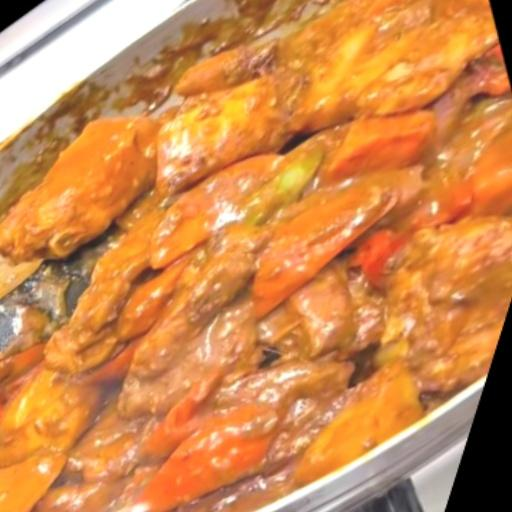pork caldereta: (0, 0, 511, 511)
